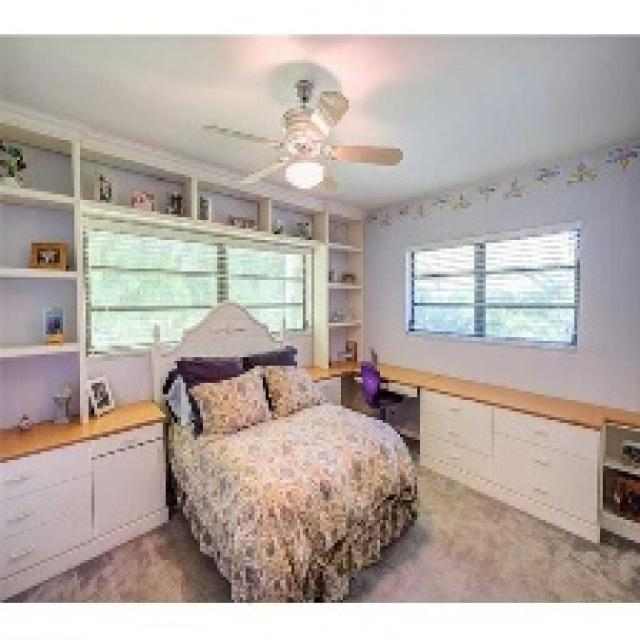Bed: (149, 297, 417, 600)
